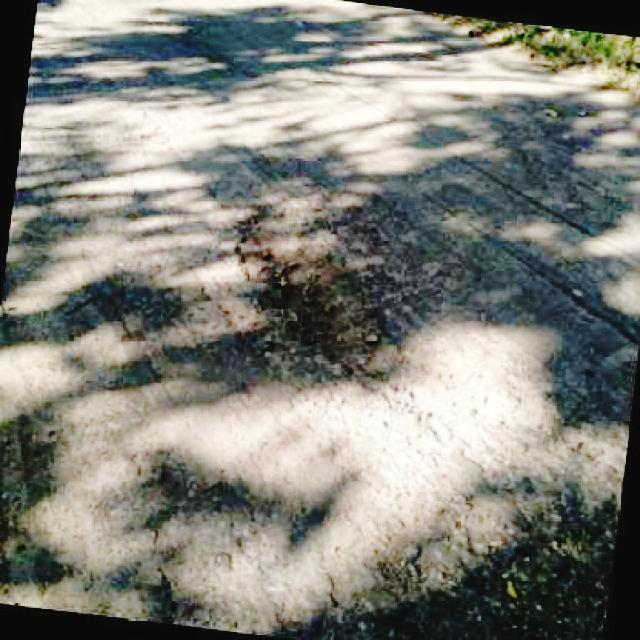pothole: (228, 203, 409, 385)
